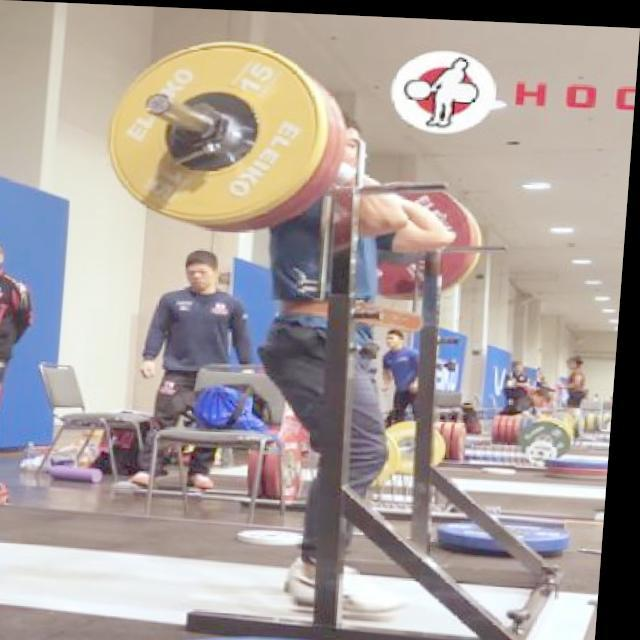barbell: (96, 30, 337, 235)
